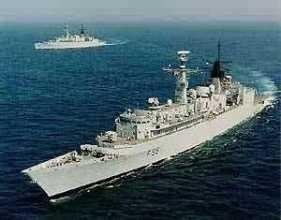warship: (24, 47, 268, 196), (30, 22, 111, 53)
